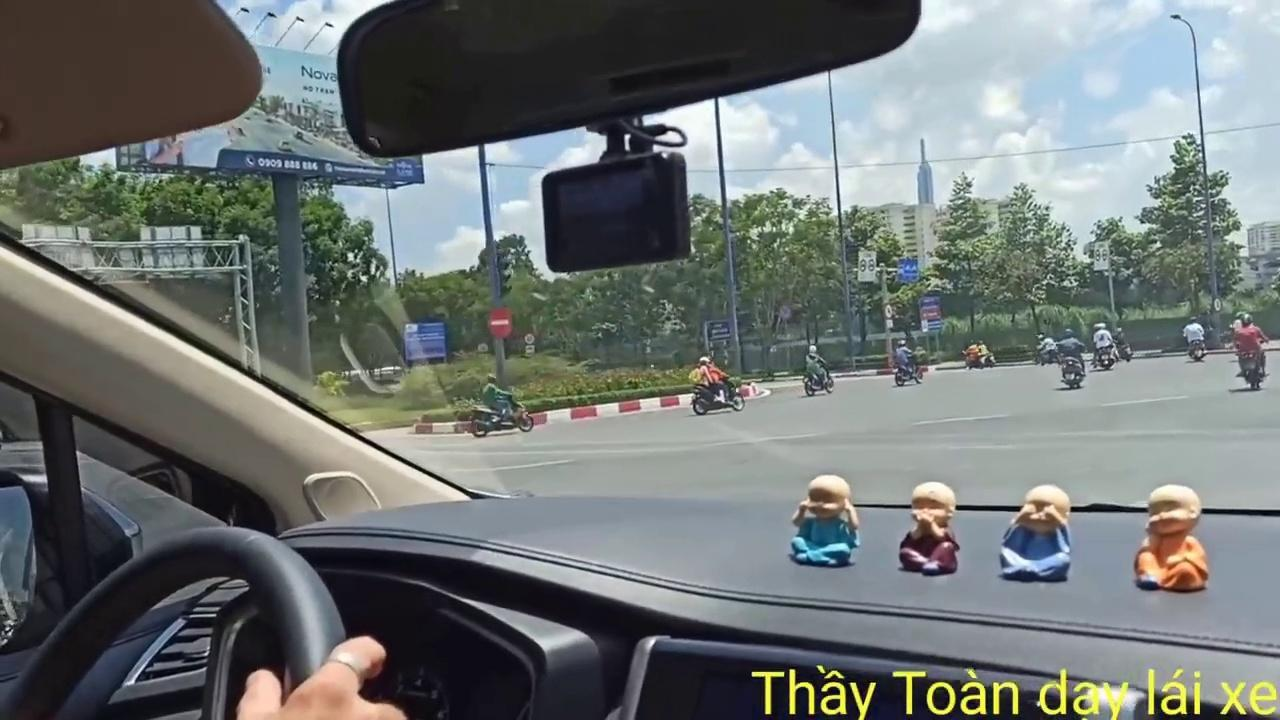Cấm cac phương tiện hoạt động trong khung giờ cố định: (855, 248, 879, 284)
Cấm đi ngược chiều: (486, 303, 514, 341)
Khác: (403, 320, 449, 363), (918, 294, 945, 333)
Làn đường cho từng xe: (897, 257, 920, 283)
